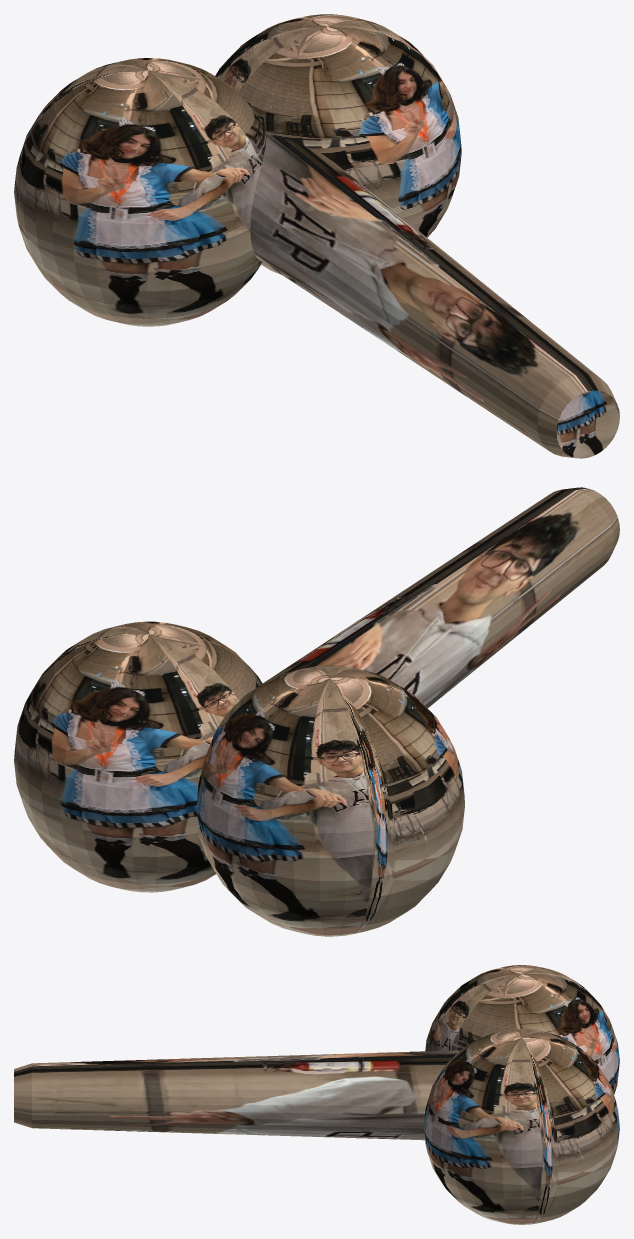
Rendered from jacob.dae.
3 renders of one model, top to bottom at view 1: azimuth 30°, elevation 25°; view 2: azimuth 150°, elevation 25°; view 3: azimuth 270°, elevation 25°, orthographic. The views are drawn at different scales.
Parts seen in each view (by area): view 1: Cylinder; view 2: Cylinder; view 3: Cylinder.
Part boxes in pixels (x1,y1,x2,y2): Cylinder: (14,14,619,458); Cylinder: (14,487,619,936); Cylinder: (14,965,619,1224).
Size of the model in its own units: 1.48 by 2.59 by 0.8397.
